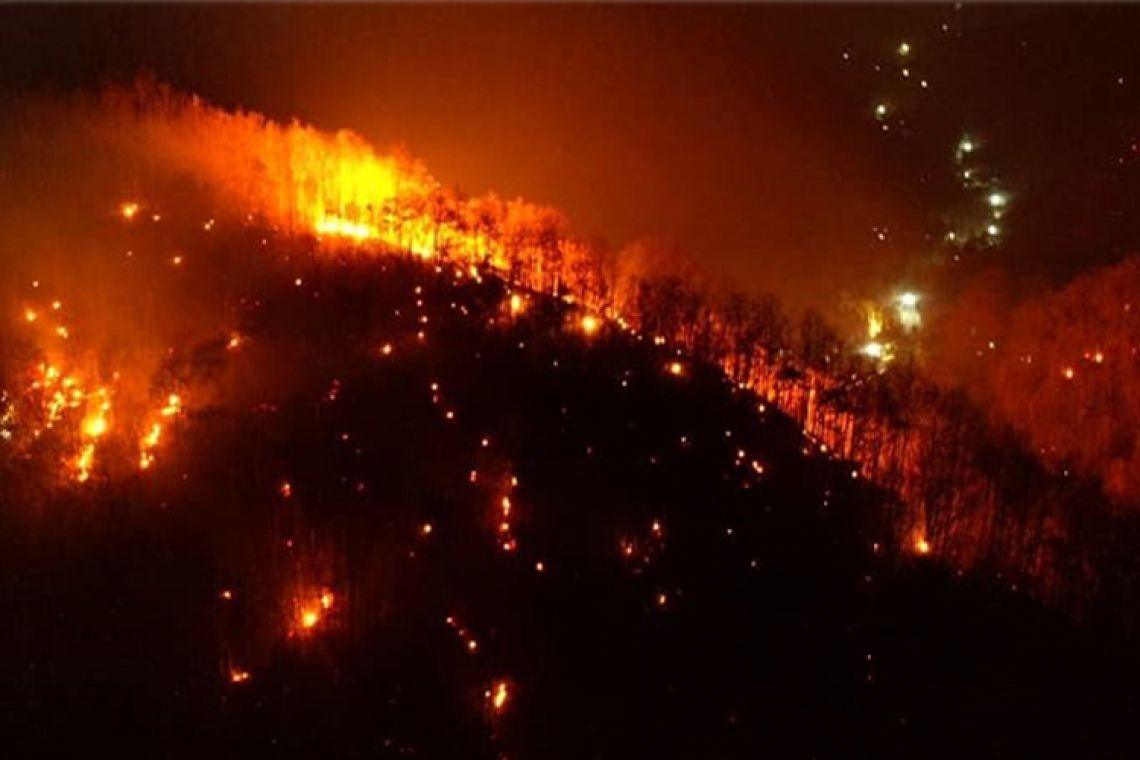fire: (511, 171, 1063, 619), (209, 78, 714, 353), (5, 261, 230, 510)
